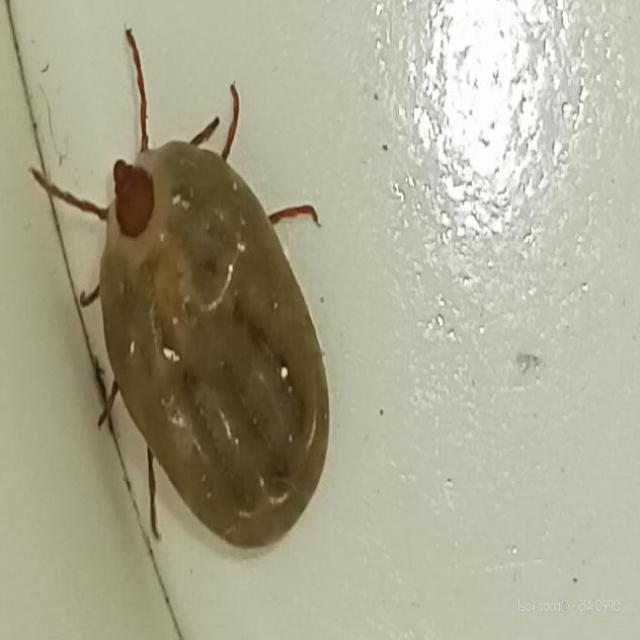Rhipicephalus Sanguineus-F-Fed: (28, 34, 328, 553)
